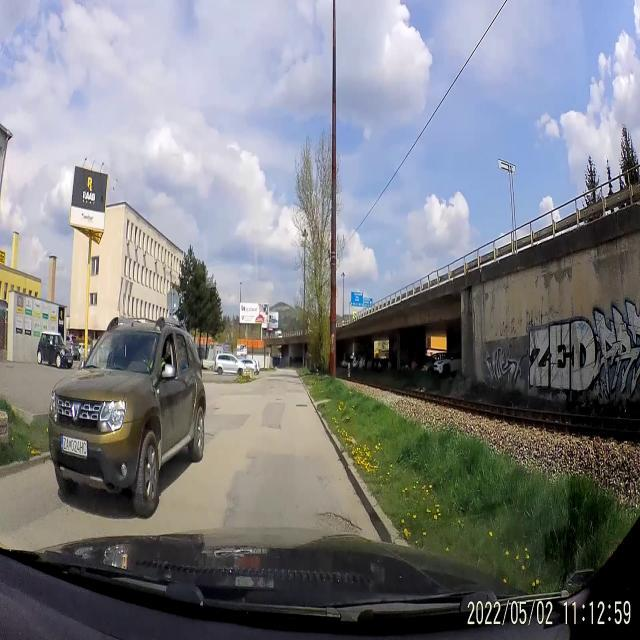Pothole: (315, 506, 365, 536), (273, 392, 284, 409), (204, 431, 216, 444), (294, 400, 308, 410), (214, 402, 222, 413), (268, 383, 276, 393)
